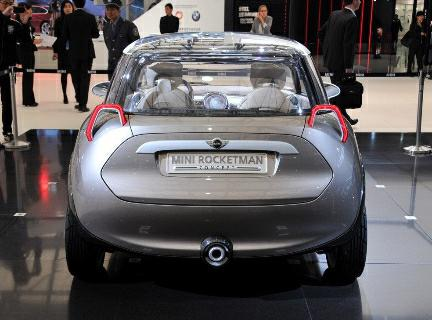MINI-ROCKETMAN: (65, 35, 378, 295)
